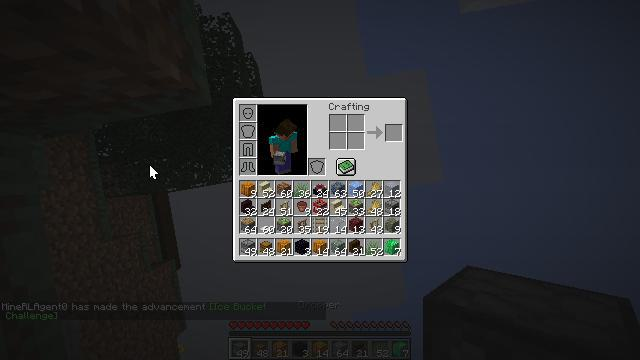cursor: (149, 164, 159, 180)
